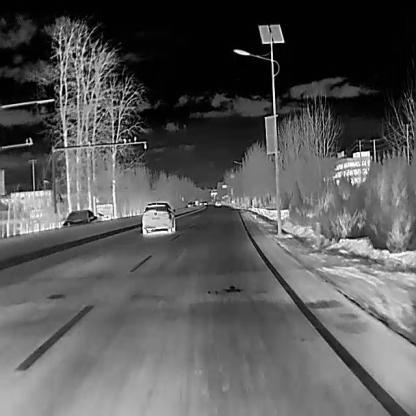car: (141, 201, 175, 235), (61, 208, 97, 227), (215, 200, 221, 205), (188, 202, 193, 207), (194, 200, 198, 205), (199, 201, 202, 205), (204, 201, 207, 204)
